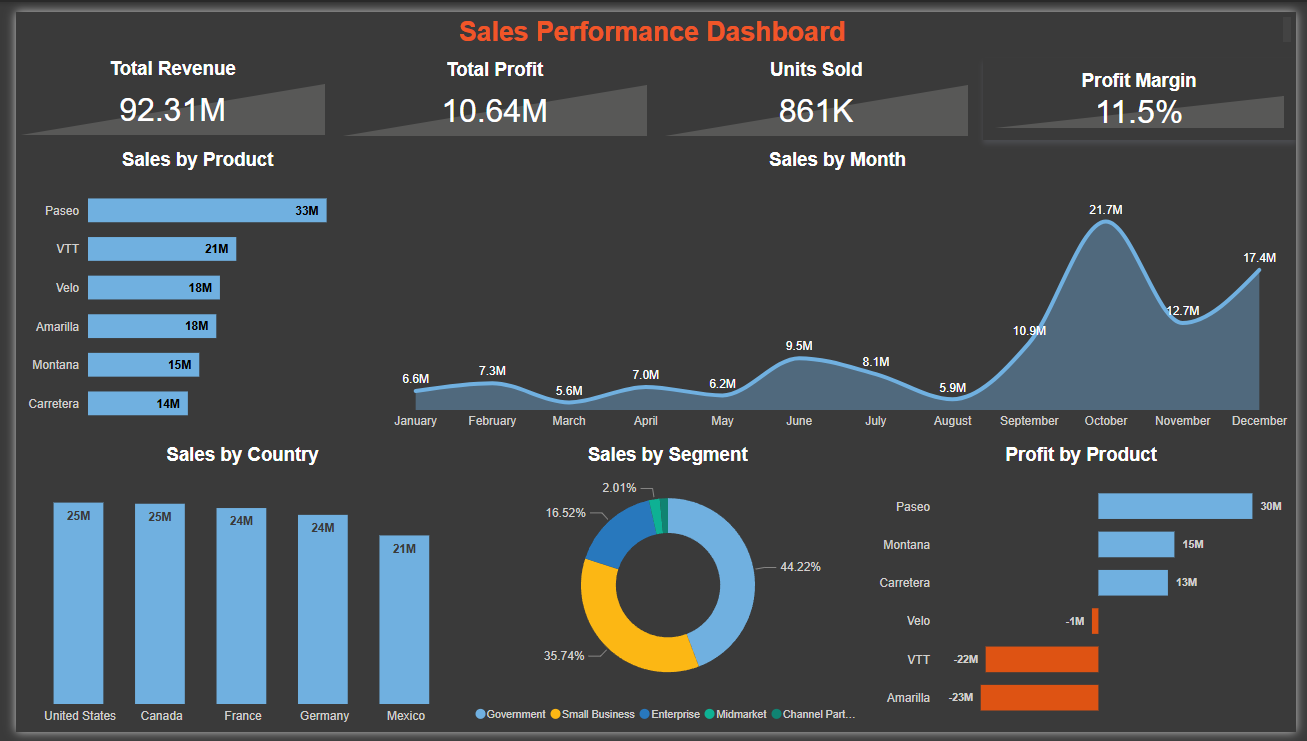

Layout of this report page (visuals, bound fields, positions):
{"tool":"powerbi","page":{"name":"Page 1","canvas":[1280,720],"ordinal":0},"visuals":[{"type":"kpi","title":"Total Revenue","fields":{"Indicator":["Sum(Financials.Net Sales)"],"TrendLine":["Financials.Year"]},"box":[0,46.8,313.5,81.4],"z":0,"group":"g1"},{"type":"lineChart","title":"Sales by Month","fields":{"Y":["Sum(Financials.Net Sales)"],"Category":["Financials.Date.Variation.Date Hierarchy.Month"]},"box":[363.9,137.1,916.5,287.6],"z":0},{"type":"kpi","title":"Total Profit","fields":{"TrendLine":["Financials.Year"],"Indicator":["Sum(Financials.Profit)"]},"box":[322.3,47.6,313.6,81.9],"z":1000,"group":"g1"},{"type":"clusteredBarChart","title":"Sales by  Product ","fields":{"Y":["Sum(Financials.Net Sales)"],"Category":["Financials. Product "]},"box":[0,137.1,363.9,287.6],"z":1000},{"type":"kpi","title":"Units Sold","fields":{"TrendLine":["Financials.Year"],"Indicator":["Sum(Financials.  Units Sold  )"]},"box":[643.5,47.2,313.6,81.9],"z":2000,"group":"g1"},{"type":"donutChart","title":"Sales by Segment","fields":{"Category":["Financials.Segment"],"Y":["Sum(Financials.Net Sales)"]},"box":[454,432,396,288],"z":2000},{"type":"kpi","title":"Profit Margin","fields":{"TrendLine":["Financials.Year"],"Indicator":["Financials.Margin"]},"box":[966.9,46.4,313.5,82.5],"z":3000,"group":"g1"},{"type":"columnChart","title":"Sales by Country","fields":{"Y":["Sum(Financials.Net Sales)"],"Category":["Financials.Country"]},"box":[0,432,454,288],"z":3000},{"type":"textbox","box":[1,0,1279,38],"z":4000},{"type":"clusteredBarChart","title":"Profit by Product","fields":{"Category":["Financials. Product "],"Y":["Sum(Financials.Profit)"]},"box":[850.5,432,429.9,287.6],"z":5000},{"type":"group","id":"g1","title":"Group 1","box":[0,46.4,1280.4,82.5],"z":6000}]}

Visuals, with their boxes in screenshot pixels (x1, y1, x2, y2), scaled from the page's 1280x720 canvas onto the 1307x741 screenshot:
"Total Revenue" kpi: (x1=0, y1=48, x2=320, y2=132)
"Sales by Month" lineChart: (x1=372, y1=141, x2=1306, y2=437)
"Total Profit" kpi: (x1=329, y1=49, x2=649, y2=133)
"Sales by  Product " clusteredBarChart: (x1=0, y1=141, x2=372, y2=437)
"Units Sold" kpi: (x1=657, y1=49, x2=977, y2=133)
"Sales by Segment" donutChart: (x1=464, y1=445, x2=868, y2=740)
"Profit Margin" kpi: (x1=987, y1=48, x2=1306, y2=133)
"Sales by Country" columnChart: (x1=0, y1=445, x2=464, y2=740)
textbox: (x1=1, y1=0, x2=1306, y2=39)
"Profit by Product" clusteredBarChart: (x1=868, y1=445, x2=1306, y2=740)
"Group 1" group: (x1=0, y1=48, x2=1306, y2=133)
